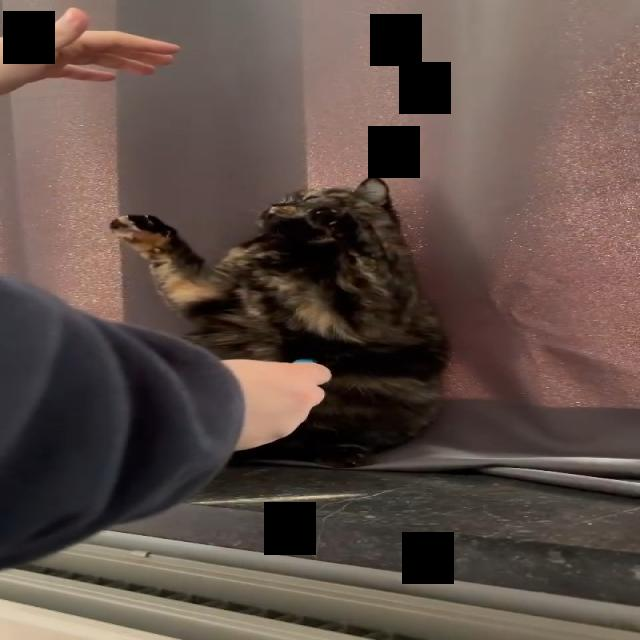authorized: (108, 173, 452, 468)
